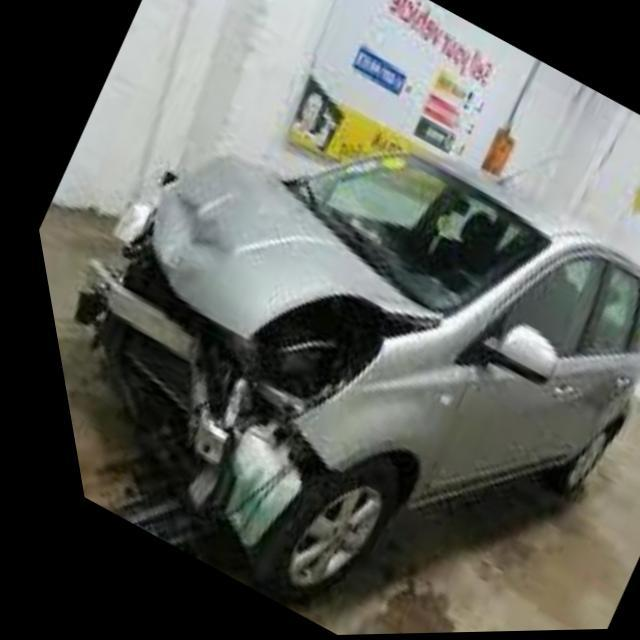dislocated part: (70, 148, 420, 546)
